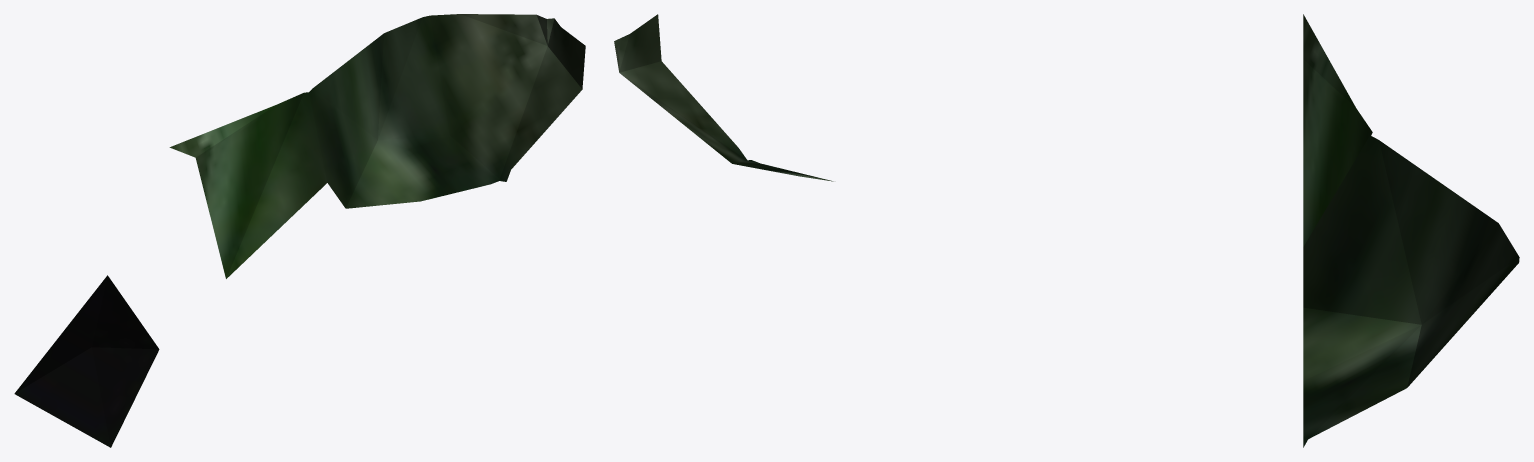
3 views of the same model, side by side, from view 1: azimuth 30°, elevation 25°; view 2: azimuth 150°, elevation 25°; view 3: azimuth 270°, elevation 25° (orthographic). The views are drawn at different scales.
Size of the model in its own units: 0.3156 by 0.1498 by 0.0665.
Materials: 1 (1 with a texture image).
